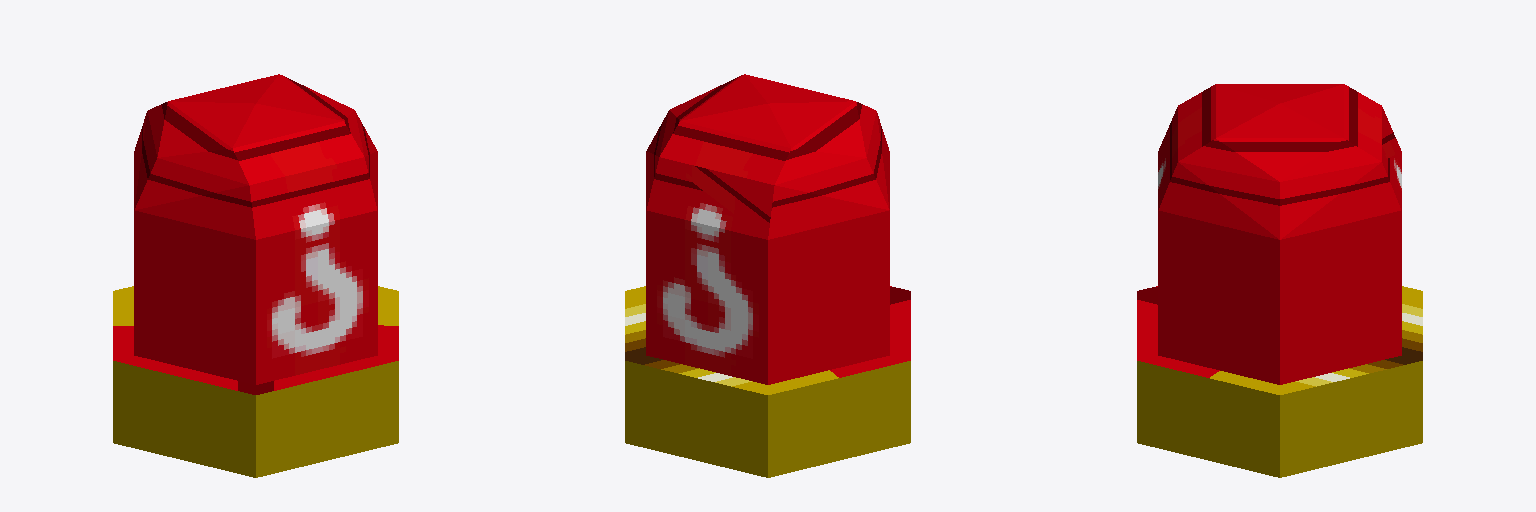
The picture shows the model from 3 angles: view 1: azimuth 30°, elevation 25°; view 2: azimuth 150°, elevation 25°; view 3: azimuth 270°, elevation 25°; orthographic projection.
Visible parts, largest first — view 1: skl_root, hatena_switch_joint; view 2: skl_root, hatena_switch_joint; view 3: skl_root, hatena_switch_joint.
Part boxes in pixels (left/top/right/bottom): skl_root: left=113, top=75, right=398, bottom=477; hatena_switch_joint: left=134, top=74, right=377, bottom=384; skl_root: left=625, top=75, right=910, bottom=477; hatena_switch_joint: left=646, top=74, right=889, bottom=384; skl_root: left=1137, top=84, right=1422, bottom=477; hatena_switch_joint: left=1158, top=84, right=1401, bottom=384.
Bounding box in the file's own units: 31.66 × 32.3 × 27.42.
Materials: 1 (1 with a texture image).